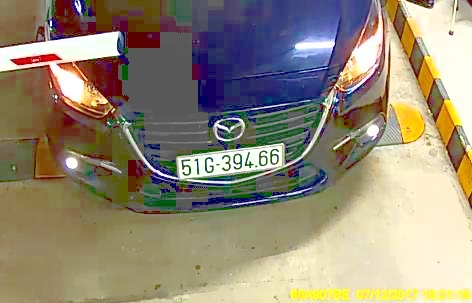plate: (170, 140, 289, 176)
